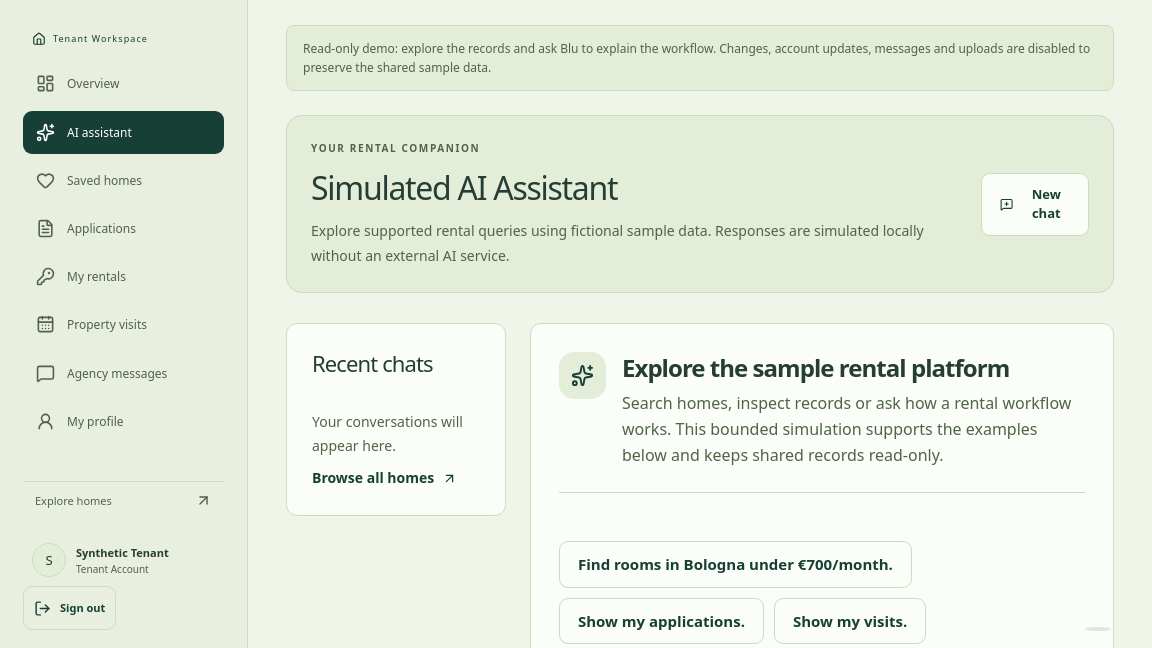
Test: labels offline chat honestly and sends a supported query with no API-key setup UI
The width and height of the screenshot is (1152, 648).
(page scrolled)
Expected: the heading "Simulated AI Assistant" is shown, [311,166,617,209]
Click the button "Show my applications." at coordinates (661, 621), box [559,598,764,644]
(page scrolled)
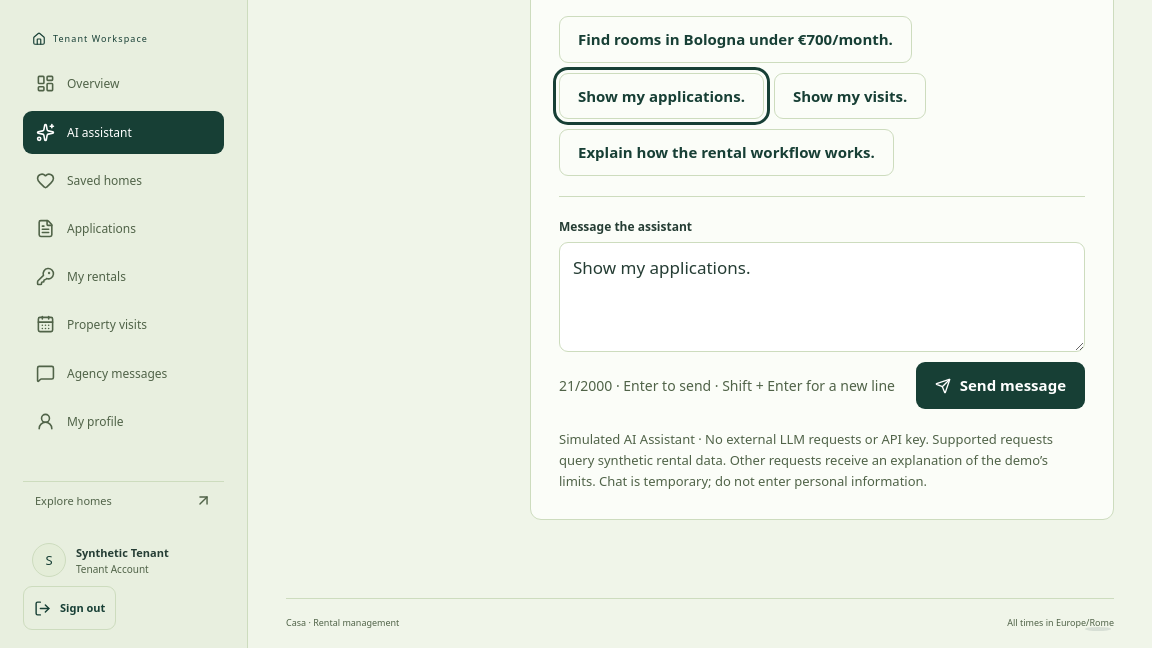
Click the button "Send message" at coordinates (1000, 386), box [916,362,1085,409]
(page scrolled)
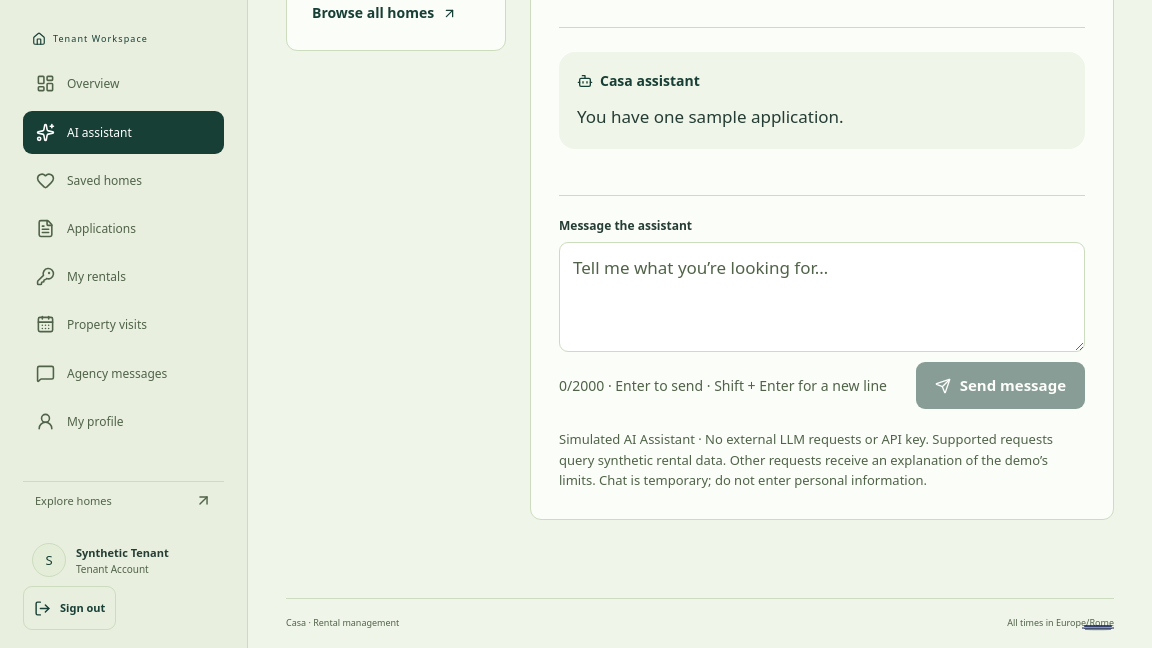
Expected: the text "You have one sample application." is shown, [577,104,844,128]
